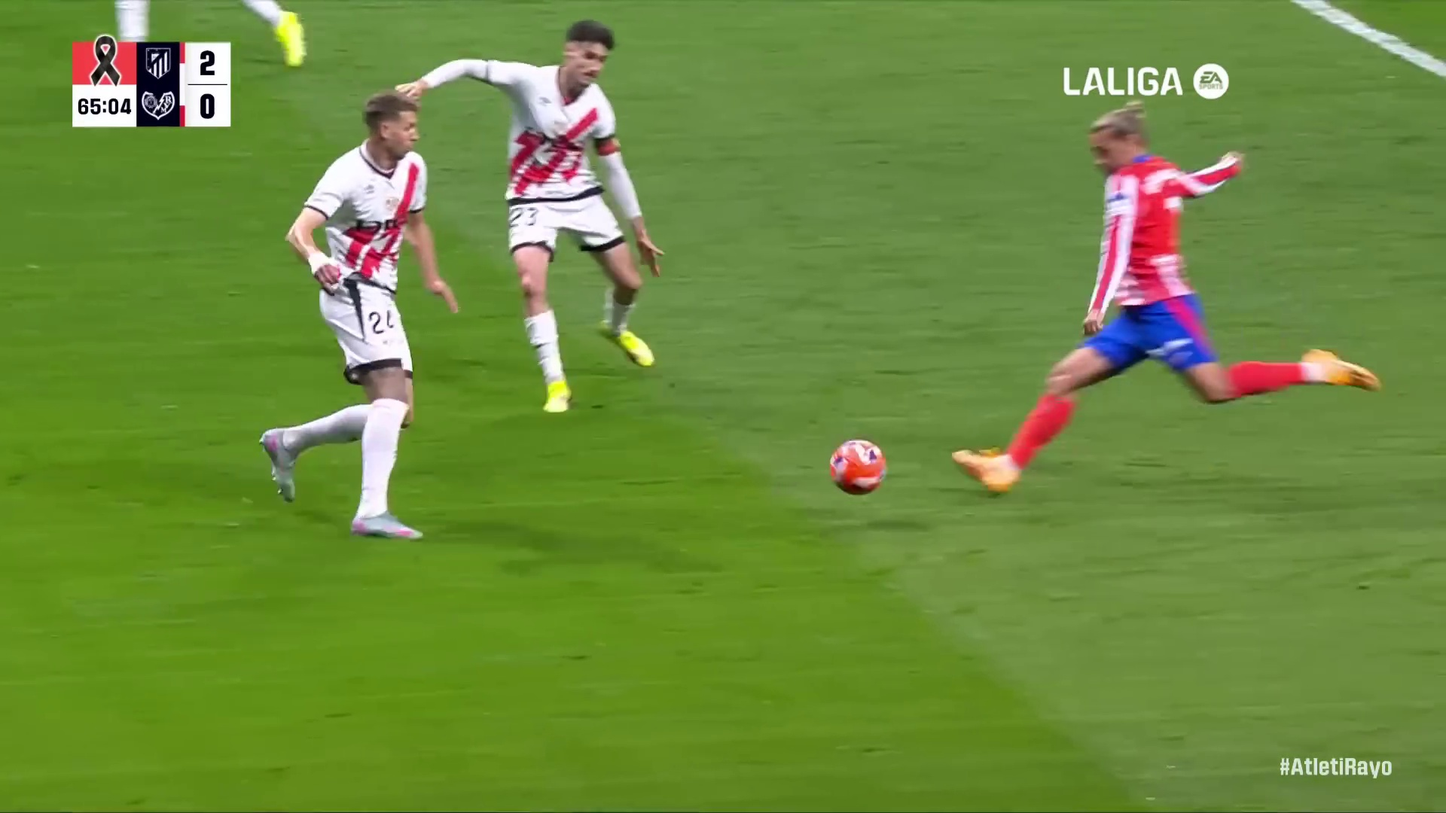ball: (820, 434, 892, 505), (1190, 60, 1232, 102)
player: (937, 107, 1382, 496), (380, 18, 665, 415), (254, 85, 461, 543)
